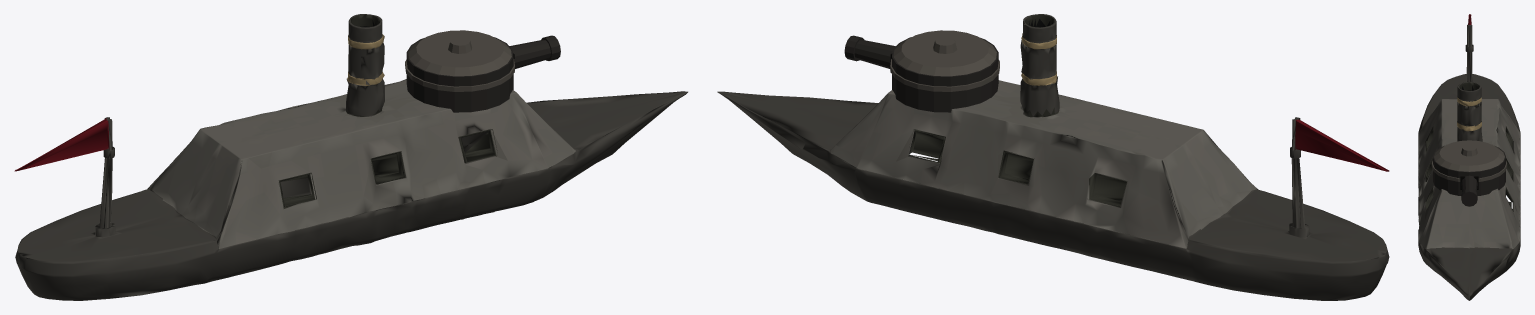
File: ironclad.glb
3 renders of one model, left to right at view 1: azimuth 30°, elevation 25°; view 2: azimuth 150°, elevation 25°; view 3: azimuth 270°, elevation 25°, orthographic. The views are drawn at different scales.
Parts seen in each view (by area): view 1: geometry_0, cannon_turret, cannon_barrel; view 2: geometry_0, cannon_turret, cannon_barrel; view 3: geometry_0, cannon_turret, cannon_barrel.
Part boxes in pixels (<box>): geometry_0: <box>14,14,687,300</box>; cannon_turret: <box>405,30,514,112</box>; cannon_barrel: <box>509,35,560,68</box>; geometry_0: <box>717,14,1389,300</box>; cannon_turret: <box>890,30,999,112</box>; cannon_barrel: <box>844,35,895,68</box>; geometry_0: <box>1418,14,1520,300</box>; cannon_turret: <box>1431,140,1507,195</box>; cannon_barrel: <box>1461,175,1477,206</box>.
Size of the model in its own units: 1.03 by 0.2812 by 0.1981.
